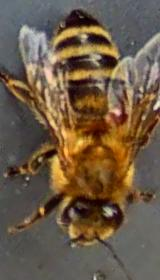varroa_mite: (91, 96, 139, 140)
